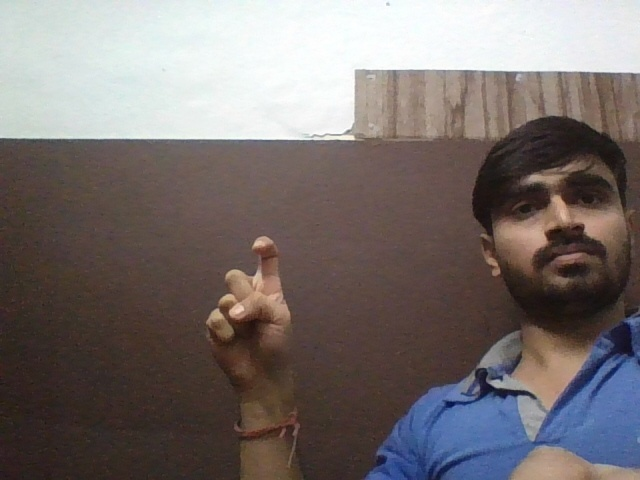X: (191, 230, 310, 397)
